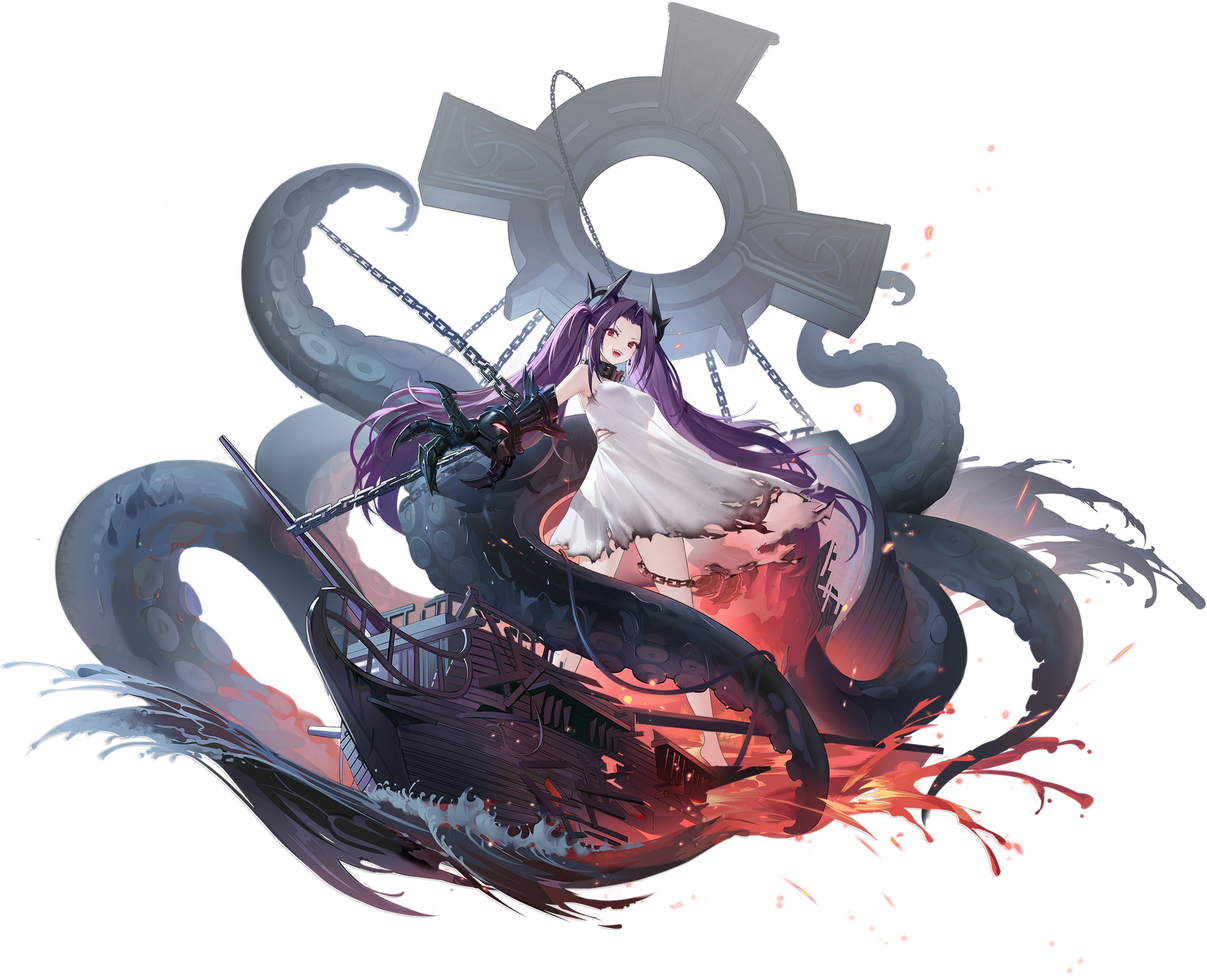person: (1, 1, 1205, 974)
